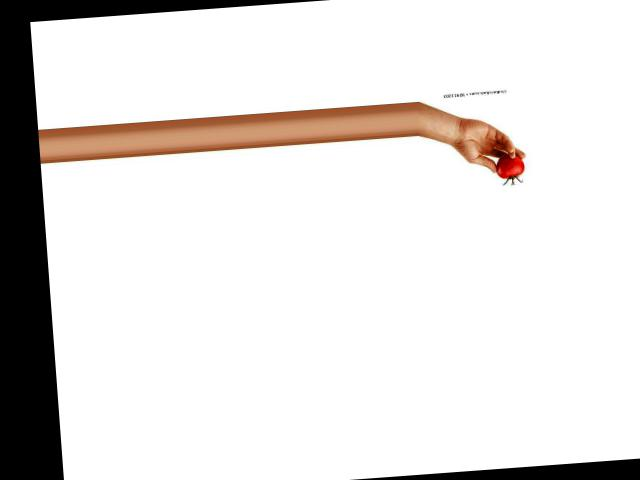tomato: (494, 152, 524, 178)
